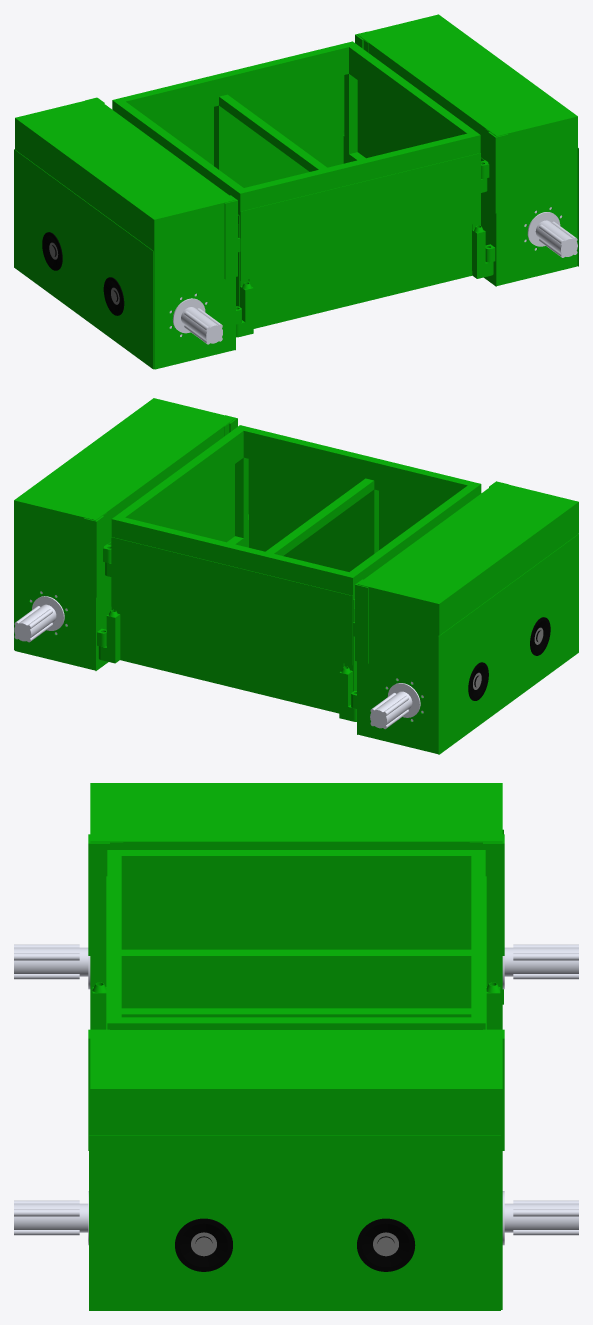
Rendered from Body no motors.fbx.
The picture shows the model from 3 angles, top to bottom: view 1: azimuth 30°, elevation 25°; view 2: azimuth 150°, elevation 25°; view 3: azimuth 270°, elevation 25°; orthographic projection. The views are drawn at different scales.
Parts seen in each view (by area): view 1: Body_no_motors.001; view 2: Body_no_motors.001; view 3: Body_no_motors.001.
Boxes of the visible parts, left/top/right/bottom form: Body_no_motors.001: left=14, top=14, right=578, bottom=369; Body_no_motors.001: left=14, top=398, right=578, bottom=754; Body_no_motors.001: left=14, top=783, right=578, bottom=1310.
Bounding box in the file's own units: 100 × 33.7 × 77.6.
